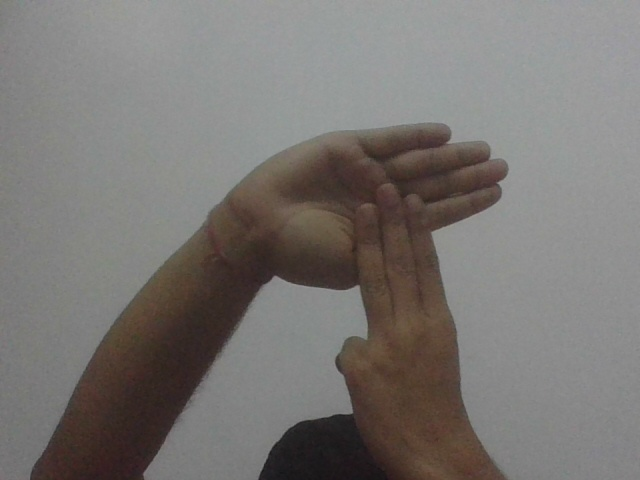M: (257, 119, 519, 364)
